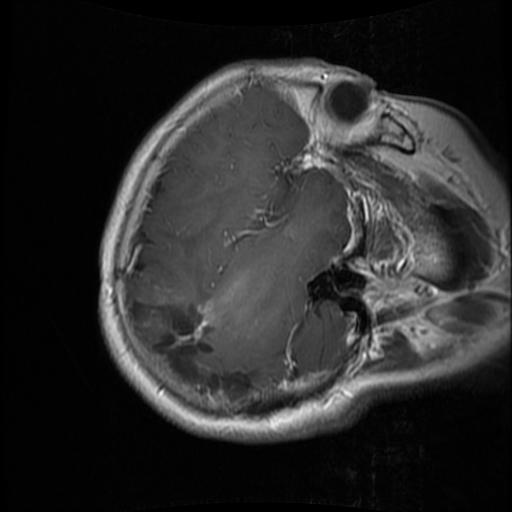glioma: (149, 302, 258, 397)
